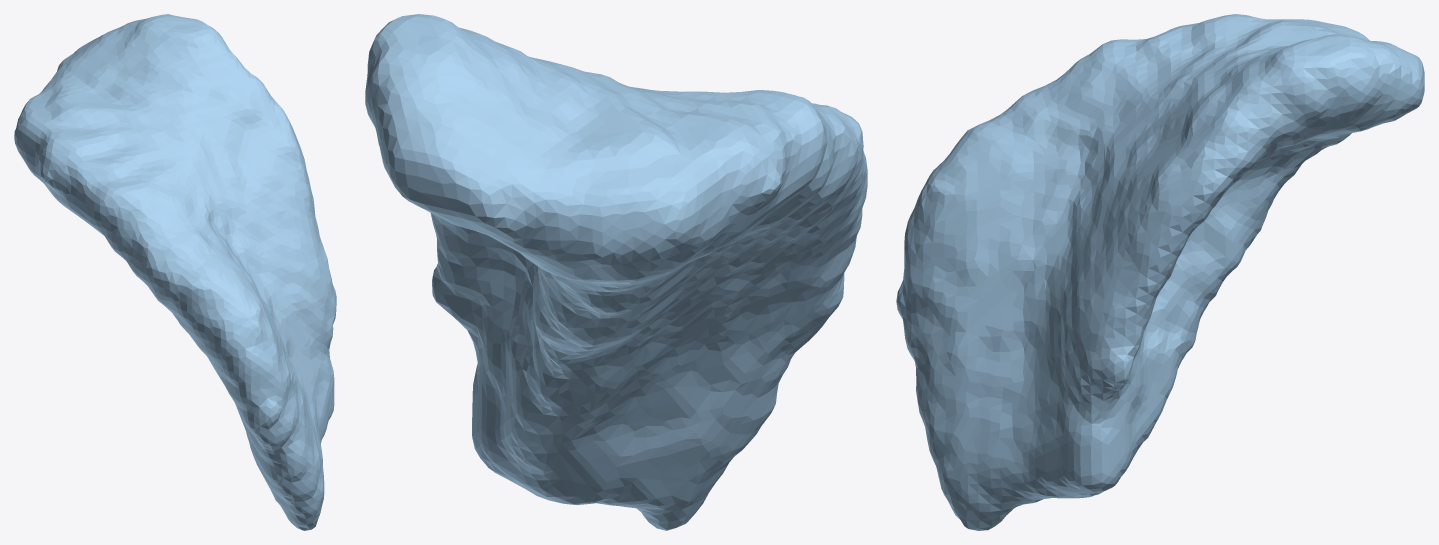
3 views of the same model, side by side, from view 1: azimuth 30°, elevation 25°; view 2: azimuth 150°, elevation 25°; view 3: azimuth 270°, elevation 25° (orthographic). The views are drawn at different scales.
Visible parts, largest first — view 1: world; view 2: world; view 3: world.
Boxes of the visible parts, x1,y1,x2,y2 form: world: (14, 14, 336, 530); world: (365, 14, 867, 530); world: (896, 14, 1424, 530).
Size of the model in its own units: 0.4933 by 0.7512 by 0.7338.
